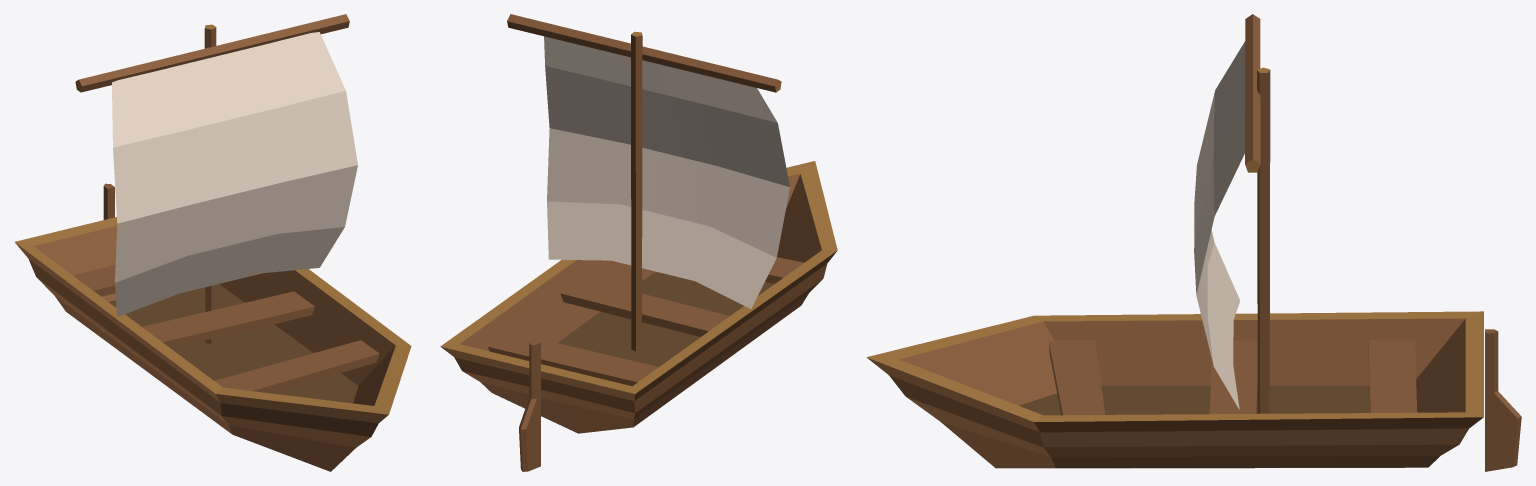
File: pirates_boat.fbx
3 renders of one model, left to right at view 1: azimuth 30°, elevation 25°; view 2: azimuth 150°, elevation 25°; view 3: azimuth 270°, elevation 25°, orthographic. The views are drawn at different scales.
Visible parts, largest first — view 1: pirates_boat; view 2: pirates_boat; view 3: pirates_boat.
Boxes of the visible parts, <box> form: pirates_boat: <box>15,14,411,471</box>; pirates_boat: <box>440,14,837,471</box>; pirates_boat: <box>866,14,1521,471</box>.
Size of the model in its own units: 105 by 134 by 200.
